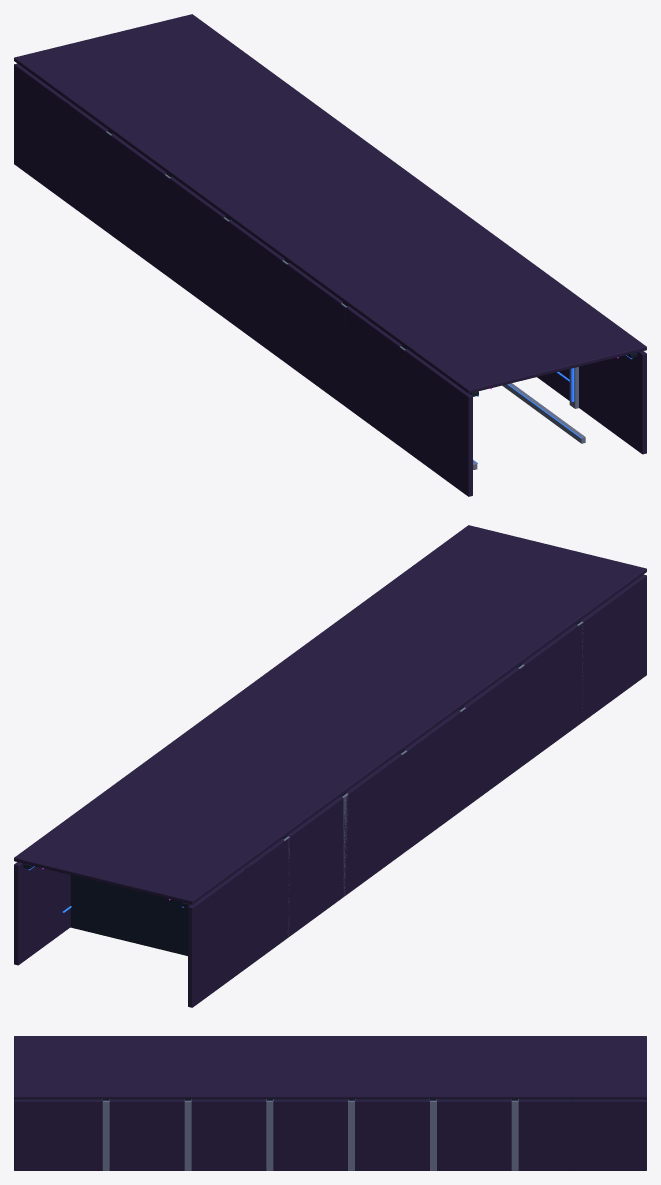
The model's file is neon-private-venue.glb.
3 views of the same model, one above another, from view 1: azimuth 30°, elevation 25°; view 2: azimuth 150°, elevation 25°; view 3: azimuth 270°, elevation 25° (orthographic). The views are drawn at different scales.
Visible parts, largest first — view 1: Dark wall slab; view 2: Dark wall slab; view 3: Dark wall slab.
Part boxes in pixels (x1,y1,x2,y2): Dark wall slab: [14, 14, 646, 496]; Dark wall slab: [14, 525, 646, 1007]; Dark wall slab: [14, 1036, 646, 1170].
Bounding box in the file's own units: 5.45 × 3.17 × 24.
